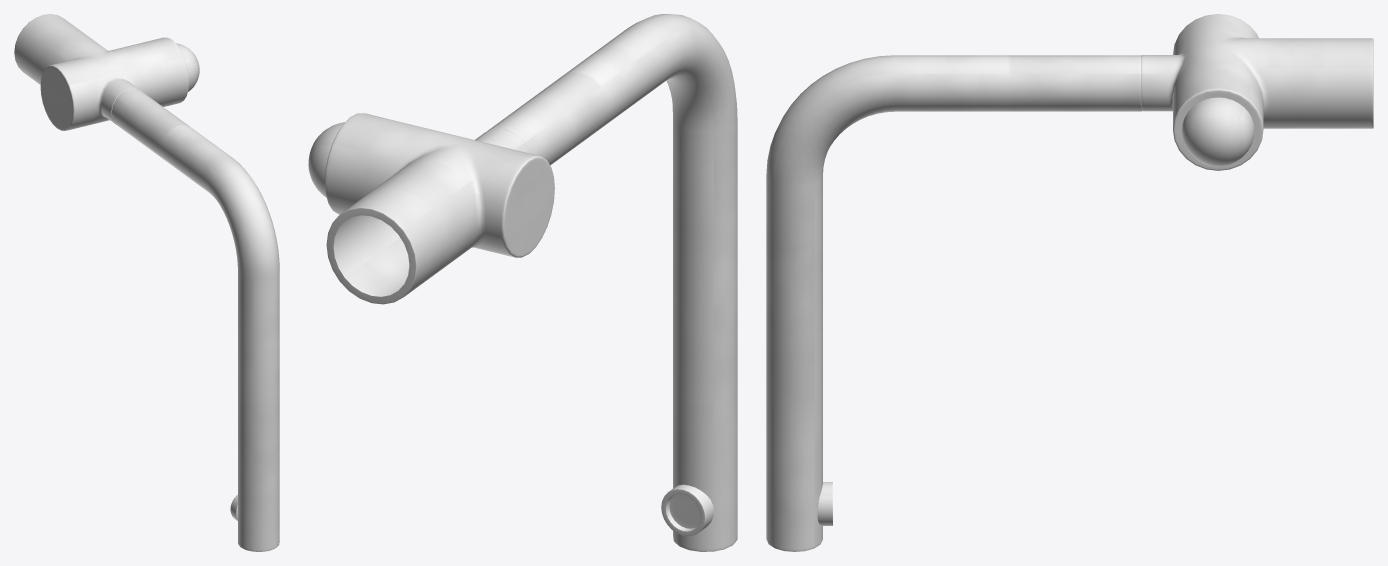
Rendered from SM_Counter_Watertab.obj.
The picture shows the model from 3 angles, left to right: view 1: azimuth 30°, elevation 25°; view 2: azimuth 150°, elevation 25°; view 3: azimuth 270°, elevation 25°; orthographic projection. The views are drawn at different scales.
Parts seen in each view (by area): view 1: SM_Counter_Watertab; view 2: SM_Counter_Watertab; view 3: SM_Counter_Watertab.
Part boxes in pixels (x1,y1,x2,y2): SM_Counter_Watertab: (14,14,279,551); SM_Counter_Watertab: (308,14,737,551); SM_Counter_Watertab: (766,14,1373,551).
Size of the model in its own units: 0.107 by 0.2725 by 0.301.
1 material, 1 textured.
